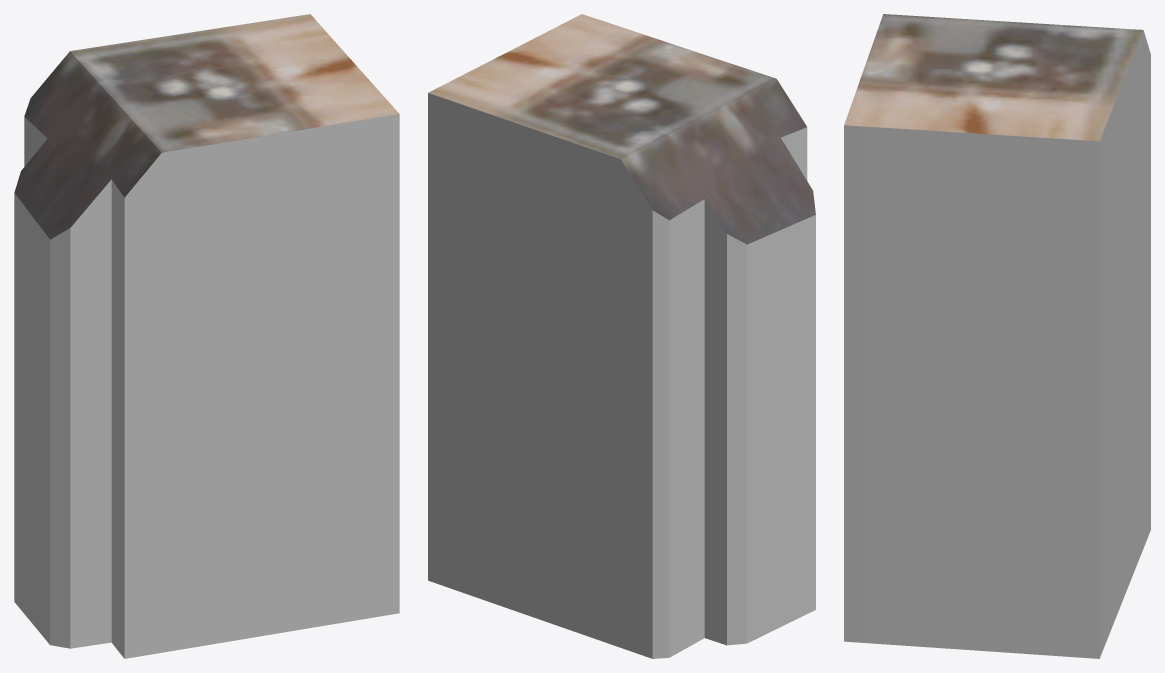
Rendered from DEBW_0010007TxbN.gltf.
3 views of the same model, side by side, from view 1: azimuth 30°, elevation 25°; view 2: azimuth 150°, elevation 25°; view 3: azimuth 270°, elevation 25° (orthographic). The views are drawn at different scales.
Parts seen in each view (by area): view 1: Z_UP; view 2: Z_UP; view 3: Z_UP.
Boxes of the visible parts, left/top/right/bottom form: Z_UP: left=14, top=14, right=399, bottom=658; Z_UP: left=428, top=14, right=815, bottom=658; Z_UP: left=844, top=14, right=1150, bottom=658.
Bounding box in the file's own units: 13.97 × 20.33 × 10.9.
Materials: 2 (1 with a texture image).
